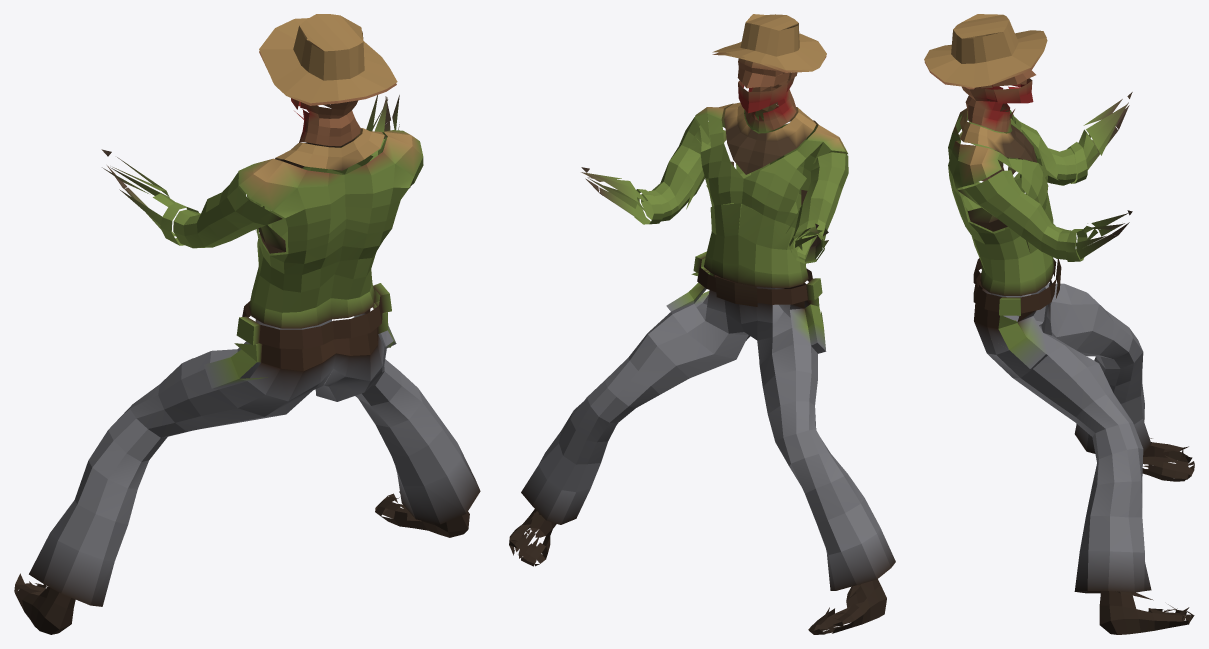
File: man_3_ride.fbx
3 renders of one model, left to right at view 1: azimuth 30°, elevation 25°; view 2: azimuth 150°, elevation 25°; view 3: azimuth 270°, elevation 25°, orthographic. The views are drawn at different scales.
Visible parts, largest first — view 1: cowboy; view 2: cowboy; view 3: cowboy.
Boxes of the visible parts, bbox=[...] form: cowboy: bbox=[14, 14, 480, 634]; cowboy: bbox=[509, 14, 895, 634]; cowboy: bbox=[924, 14, 1194, 634].
Bounding box in the file's own units: 0.6436 × 0.882 × 0.4066.
